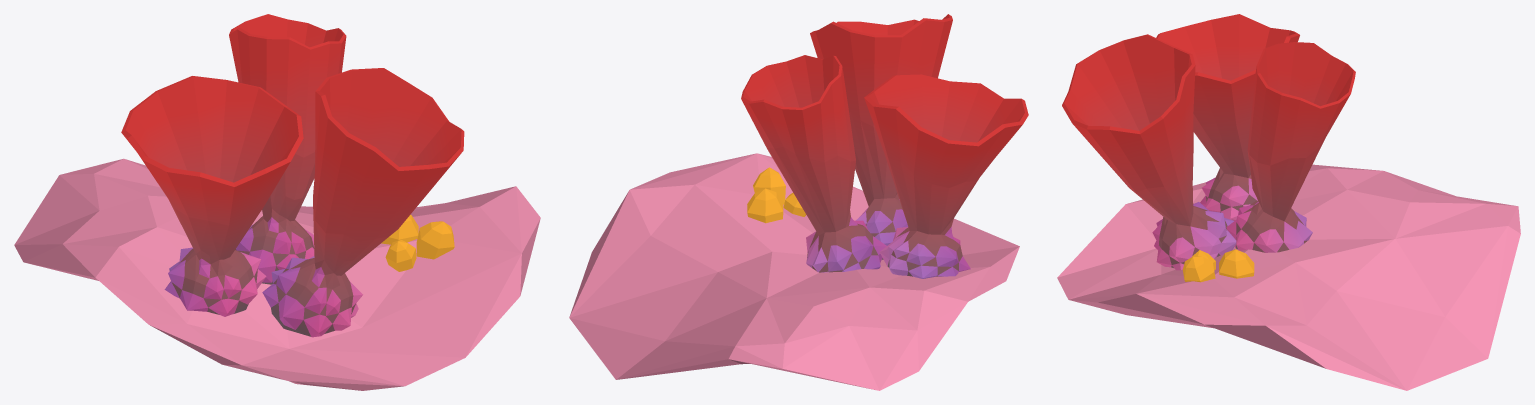
File: Coralls_011.glb
3 renders of one model, left to right at view 1: azimuth 30°, elevation 25°; view 2: azimuth 150°, elevation 25°; view 3: azimuth 270°, elevation 25°, orthographic. The views are drawn at different scales.
Parts seen in each view (by area): view 1: Coralls_011; view 2: Coralls_011; view 3: Coralls_011.
Part boxes in pixels (box(x1,y1,x2,y2)): Coralls_011: box(14, 14, 540, 390); Coralls_011: box(569, 14, 1028, 390); Coralls_011: box(1057, 14, 1520, 390).
Bounding box in the file's own units: 1.84 × 1.29 × 2.02.
Materials: 2 (2 with a texture image).
